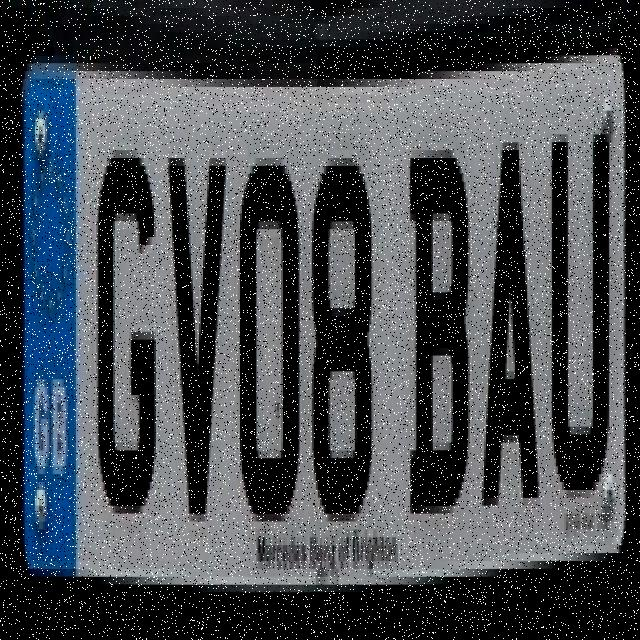licenseplate: (6, 11, 630, 608)
